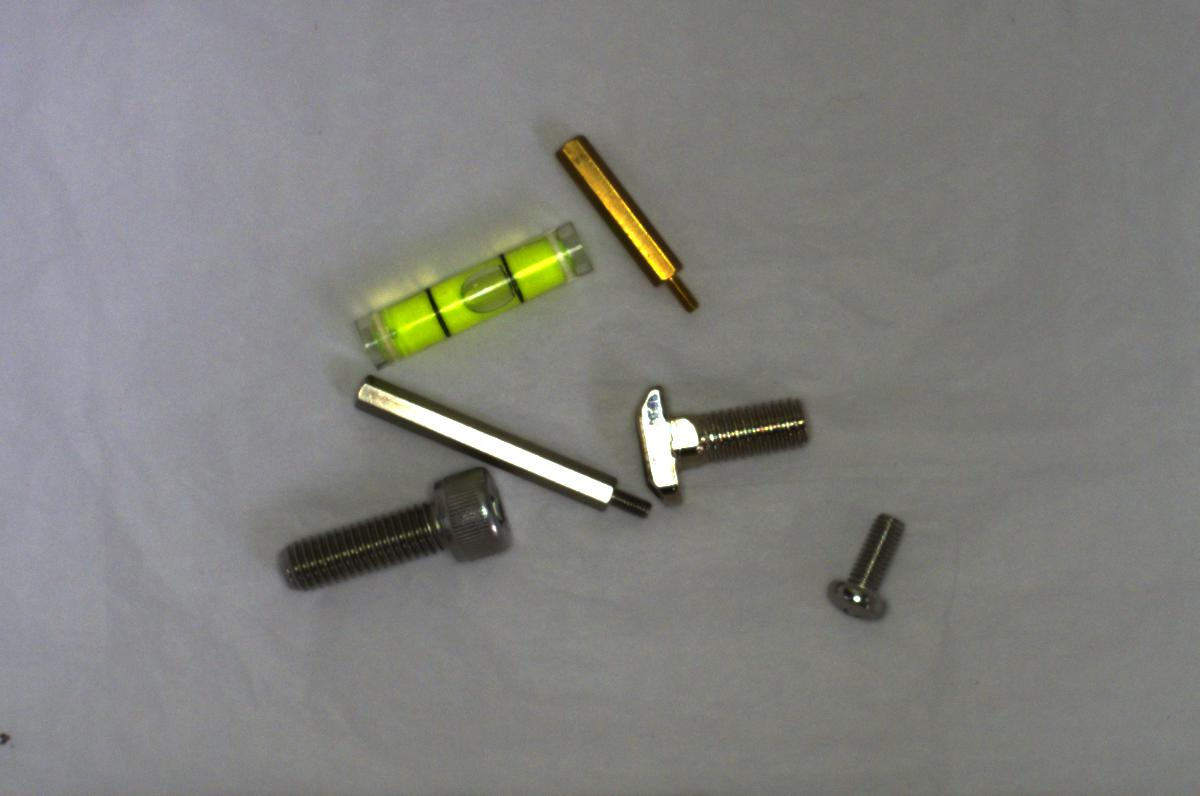Hexagon pillar: (552, 128, 701, 322)
Hexagon screw: (270, 461, 515, 594)
Hexagonal steel column: (351, 373, 655, 518)
Horizontal bubble: (351, 219, 599, 368)
Round head screw: (819, 508, 908, 618)
T-shaped screw: (625, 379, 821, 501)
